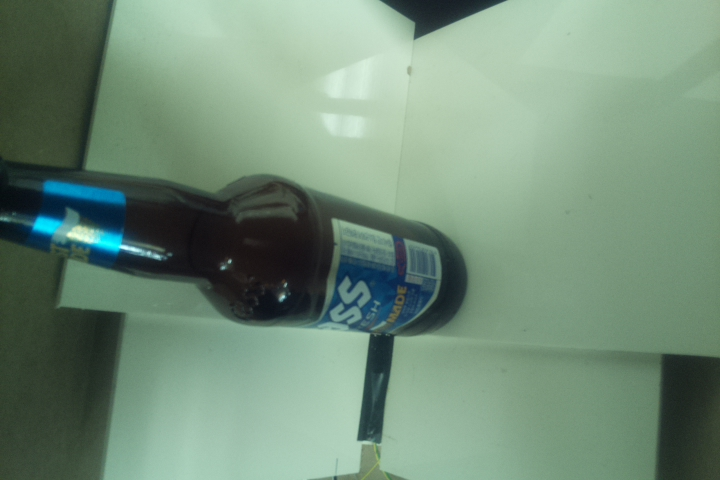makju: (1, 151, 469, 338)
